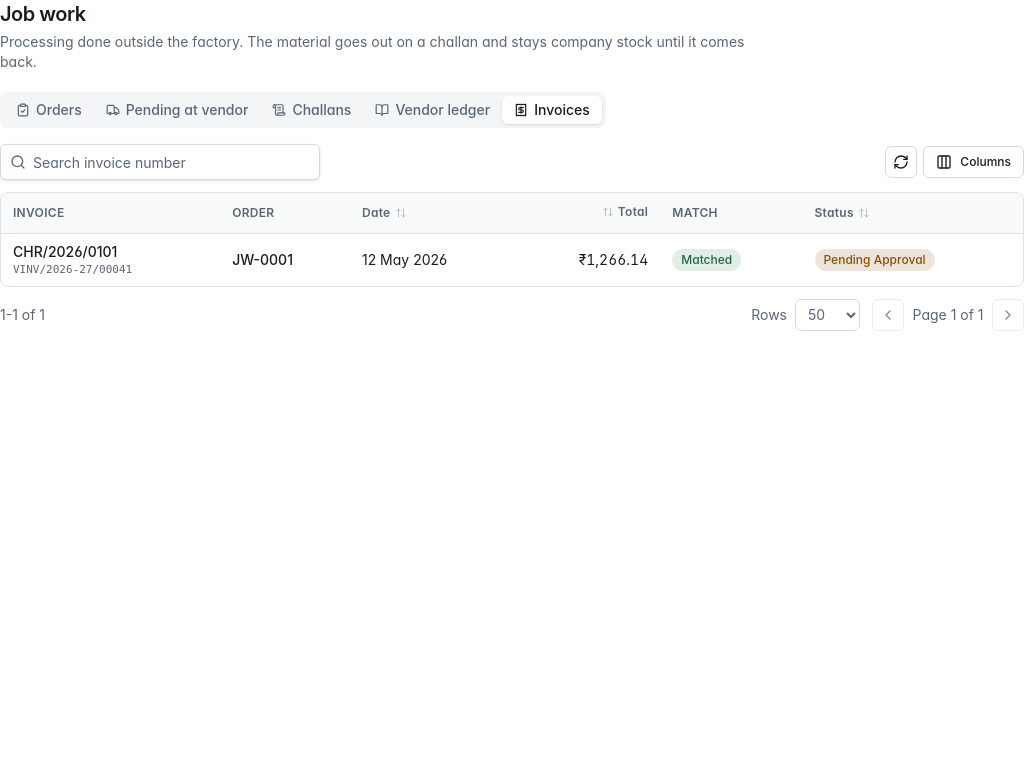
the invoices tab › shows the shared match dialog from a row
Click the button "CHR/2026/0101": (65, 252) [13,242,117,262]
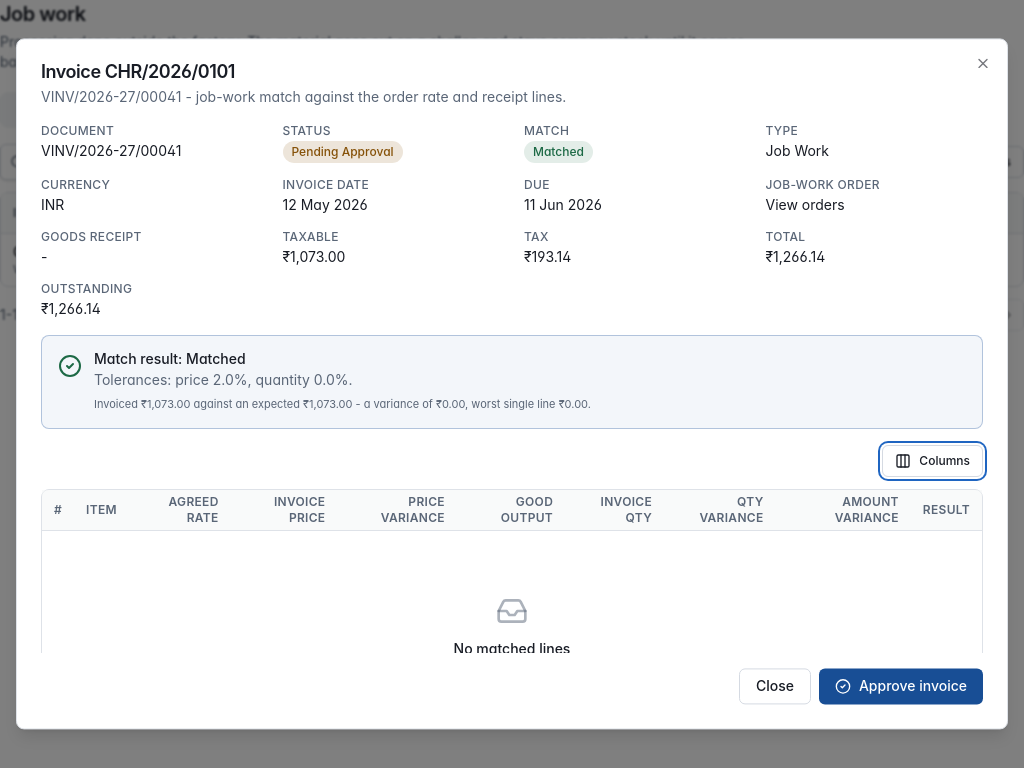
Expected: the dialog is shown
